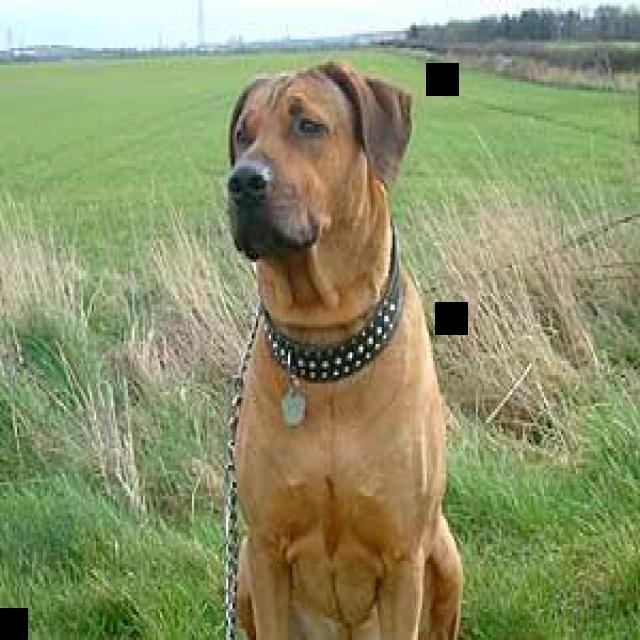adult_dog: (225, 54, 469, 640)
